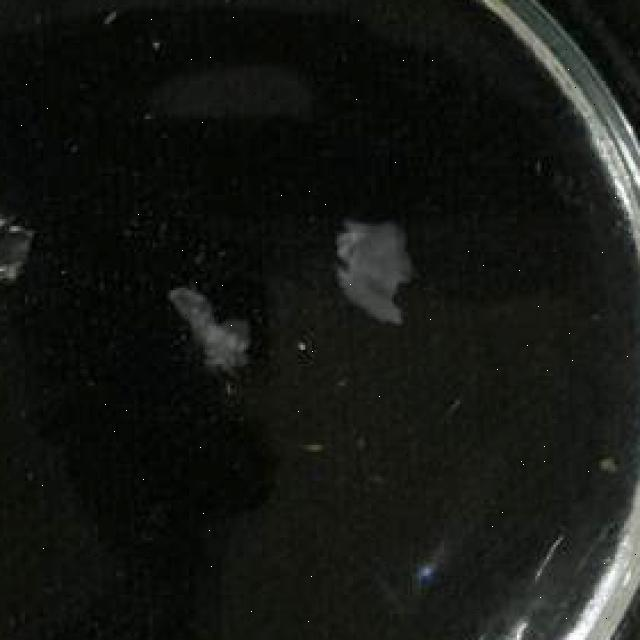Microplastic: (150, 264, 280, 386), (337, 202, 417, 352)
